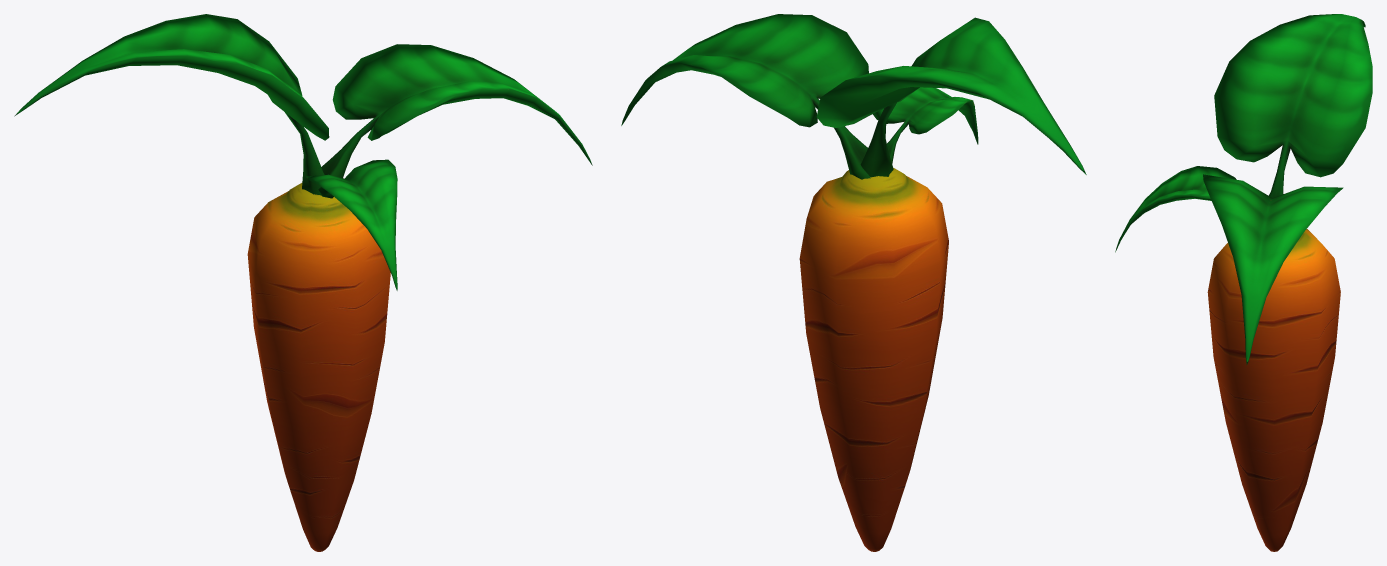
Rendered from Carrot_2.fbx.
3 renders of one model, left to right at view 1: azimuth 30°, elevation 25°; view 2: azimuth 150°, elevation 25°; view 3: azimuth 270°, elevation 25°, orthographic. The views are drawn at different scales.
Parts seen in each view (by area): view 1: Carrot_2; view 2: Carrot_2; view 3: Carrot_2.
Boxes of the visible parts, box(x1,y1,x2,y2) form: Carrot_2: box(14, 14, 592, 551); Carrot_2: box(621, 14, 1086, 551); Carrot_2: box(1115, 14, 1372, 551).
Size of the model in its own units: 32.12 by 31.41 by 15.58.
Materials: 1 (1 with a texture image).
